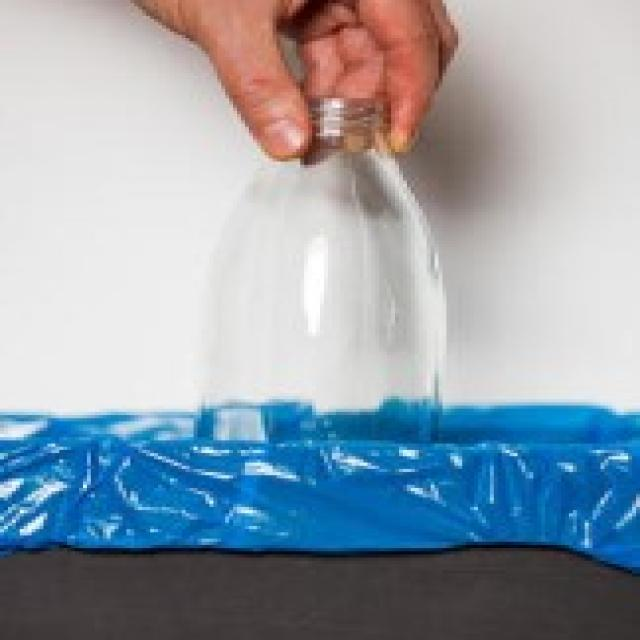electronic: (207, 91, 447, 448)
